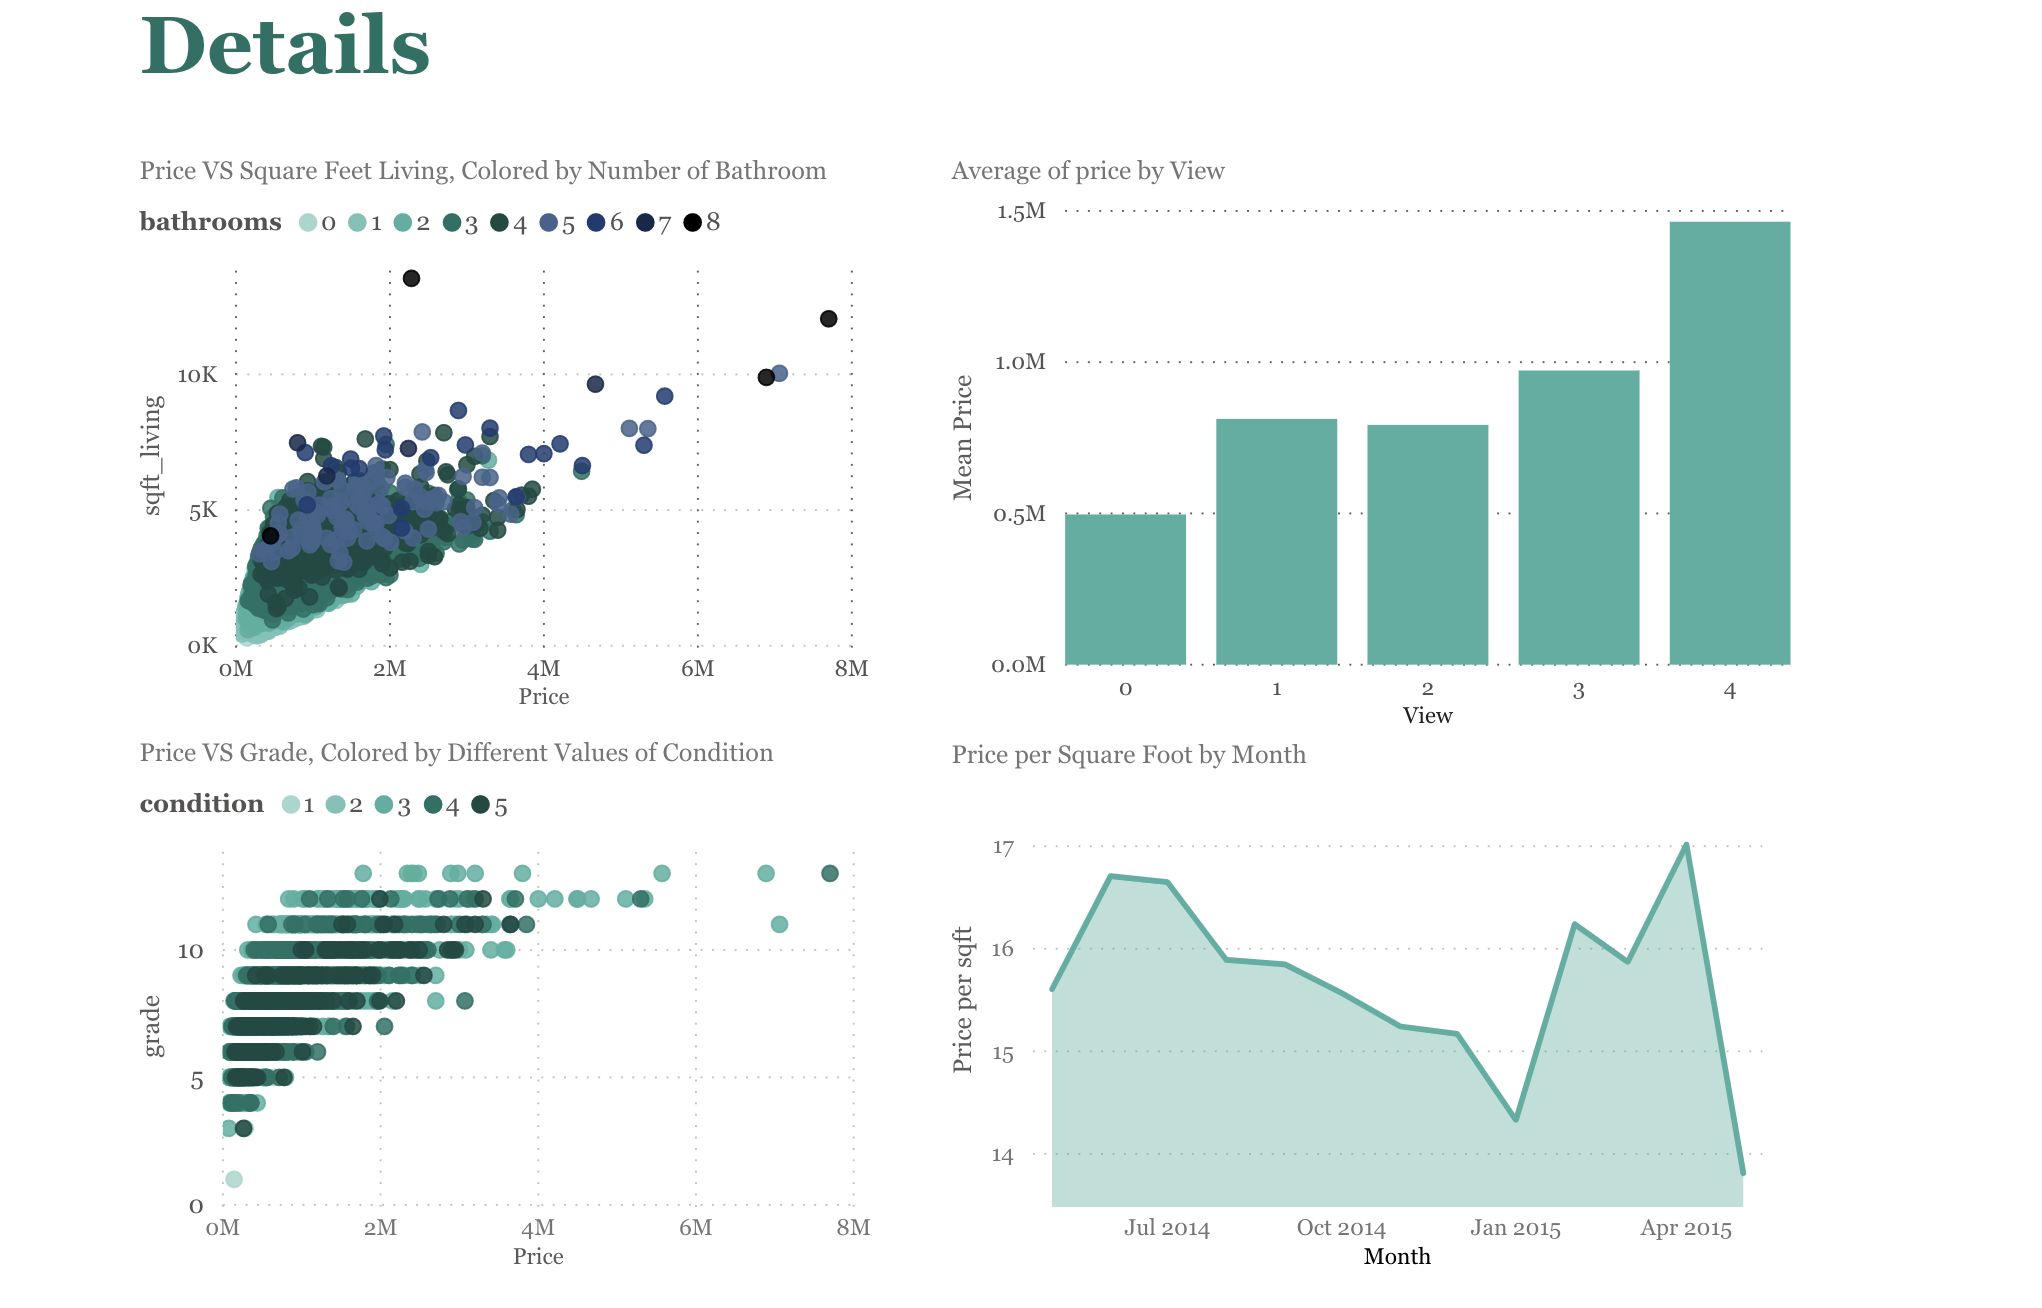

What the dashboard file says about the page in this screenshot:
{"tool":"powerbi","page":{"name":"Details","canvas":[960,720],"ordinal":1},"visuals":[{"type":"scatterChart","title":"Price VS Square Feet Living, Colored by Number of Bathroom","fields":{"X":["kc_house_data.price"],"Y":["kc_house_data.sqft_living"],"Series":["kc_house_data.bathrooms"]},"box":[23.4,88.1,396.5,297.4],"z":0},{"type":"scatterChart","title":"Price VS Grade, Colored by Different Values of Condition","fields":{"X":["kc_house_data.price"],"Y":["kc_house_data.grade"],"Series":["kc_house_data.condition"]},"box":[23,395.2,396.8,284.9],"z":1000},{"type":"clusteredColumnChart","title":"Average of price by View","fields":{"Y":["Avg(kc_house_data.price)"],"Category":["kc_house_data.view"]},"box":[451.5,88.1,452.9,307],"z":2000},{"type":"areaChart","title":"Price per Square Foot by Month","fields":{"Category":["kc_house_data.year/month"],"Y":["kc_house_data.Price per sqft"]},"box":[451.4,395.7,452.9,284.3],"z":2001},{"type":"textbox","box":[22.9,0,577.1,75.7],"z":2002}]}

Visuals, with their boxes on the page's 960x720 design canvas (x1, y1, x2, y2). These are canvas units, not pixel positions in the 2042x1308 screenshot, which may show the page scaled, cropped or inside an application window:
"Price VS Square Feet Living, Colored by Number of Bathroom" scatterChart: locate(23, 88, 420, 386)
"Price VS Grade, Colored by Different Values of Condition" scatterChart: locate(23, 395, 420, 680)
"Average of price by View" clusteredColumnChart: locate(452, 88, 904, 395)
"Price per Square Foot by Month" areaChart: locate(451, 396, 904, 680)
textbox: locate(23, 0, 600, 76)
